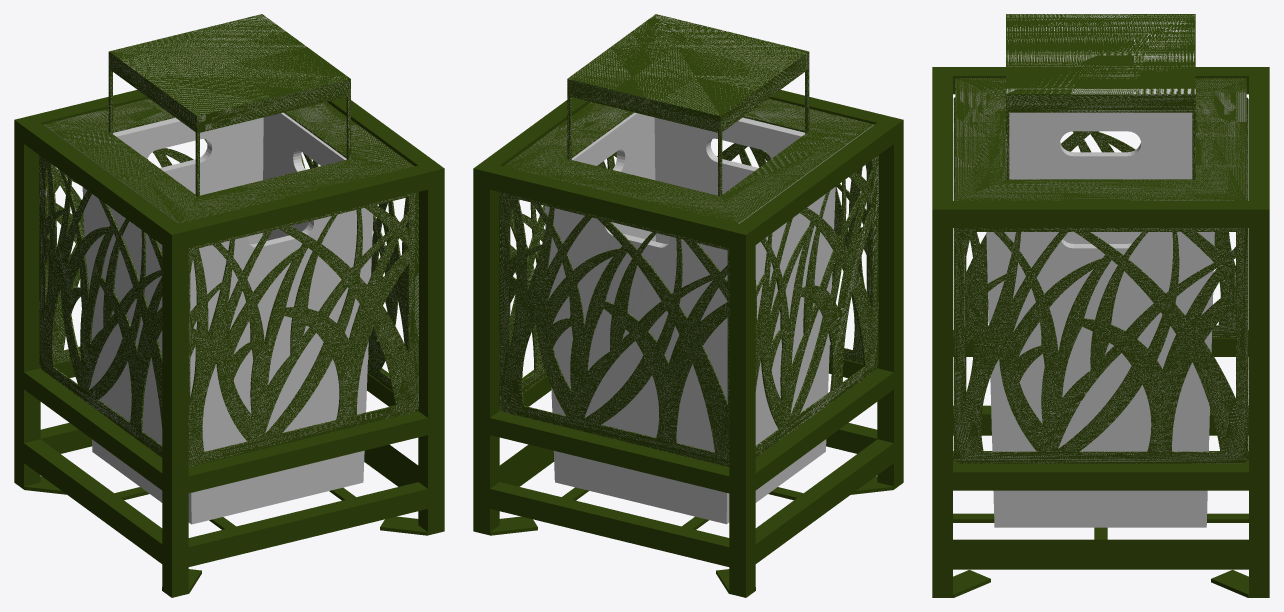
3 renders of one model, left to right at view 1: azimuth 30°, elevation 25°; view 2: azimuth 150°, elevation 25°; view 3: azimuth 270°, elevation 25°, orthographic. The views are drawn at different scales.
Visible parts, largest first — view 1: mesh54_mesh54-geometry, mesh2_mesh2-geometry, mesh6_mesh6-geometry, mesh8_mesh8-geometry, mesh1_mesh1-geometry, mesh5_mesh5-geometry, mesh28_mesh28-geometry, mesh50_mesh50-geometry, mesh21_mesh21-geometry, mesh11_mesh11-geometry, mesh3_mesh3-geometry, mesh4_mesh4-geometry (+1 smaller); view 2: mesh54_mesh54-geometry, mesh4_mesh4-geometry, mesh21_mesh21-geometry, mesh1_mesh1-geometry, mesh5_mesh5-geometry, mesh8_mesh8-geometry, mesh28_mesh28-geometry, mesh50_mesh50-geometry, mesh6_mesh6-geometry, mesh11_mesh11-geometry, mesh2_mesh2-geometry, mesh3_mesh3-geometry (+1 smaller); view 3: mesh3_mesh3-geometry, mesh54_mesh54-geometry, mesh11_mesh11-geometry, mesh1_mesh1-geometry, mesh50_mesh50-geometry, mesh21_mesh21-geometry, mesh28_mesh28-geometry, mesh6_mesh6-geometry, mesh5_mesh5-geometry, mesh8_mesh8-geometry, mesh25_mesh25-geometry, mesh14_mesh14-geometry (+1 smaller).
Part boxes in pixels (x1=…): mesh54_mesh54-geometry: x1=82, y1=112, x2=373, y2=524; mesh2_mesh2-geometry: x1=188, y1=192, x2=418, y2=466; mesh6_mesh6-geometry: x1=162, y1=165, x2=444, y2=594; mesh8_mesh8-geometry: x1=14, y1=119, x2=188, y2=594; mesh1_mesh1-geometry: x1=108, y1=14, x2=350, y2=196; mesh5_mesh5-geometry: x1=39, y1=155, x2=162, y2=457; mesh28_mesh28-geometry: x1=24, y1=422, x2=427, y2=566; mesh50_mesh50-geometry: x1=44, y1=98, x2=414, y2=223; mesh21_mesh21-geometry: x1=14, y1=89, x2=148, y2=486; mesh11_mesh11-geometry: x1=327, y1=97, x2=444, y2=531; mesh3_mesh3-geometry: x1=301, y1=153, x2=407, y2=391; mesh4_mesh4-geometry: x1=46, y1=117, x2=207, y2=363; mesh54_mesh54-geometry: x1=544, y1=112, x2=835, y2=524; mesh4_mesh4-geometry: x1=499, y1=192, x2=729, y2=466; mesh21_mesh21-geometry: x1=473, y1=161, x2=755, y2=594; mesh1_mesh1-geometry: x1=567, y1=14, x2=809, y2=196; mesh5_mesh5-geometry: x1=755, y1=155, x2=878, y2=457; mesh8_mesh8-geometry: x1=729, y1=116, x2=903, y2=594; mesh28_mesh28-geometry: x1=490, y1=422, x2=893, y2=566; mesh50_mesh50-geometry: x1=503, y1=98, x2=873, y2=223; mesh6_mesh6-geometry: x1=769, y1=90, x2=903, y2=486; mesh11_mesh11-geometry: x1=473, y1=97, x2=590, y2=531; mesh2_mesh2-geometry: x1=717, y1=117, x2=871, y2=363; mesh3_mesh3-geometry: x1=510, y1=152, x2=616, y2=392; mesh3_mesh3-geometry: x1=953, y1=228, x2=1248, y2=463; mesh54_mesh54-geometry: x1=986, y1=112, x2=1214, y2=527; mesh11_mesh11-geometry: x1=932, y1=201, x2=1269, y2=594; mesh1_mesh1-geometry: x1=1006, y1=14, x2=1195, y2=179; mesh50_mesh50-geometry: x1=955, y1=78, x2=1246, y2=200; mesh21_mesh21-geometry: x1=1249, y1=67, x2=1269, y2=594; mesh28_mesh28-geometry: x1=953, y1=405, x2=1248, y2=569; mesh6_mesh6-geometry: x1=932, y1=67, x2=952, y2=594; mesh5_mesh5-geometry: x1=953, y1=97, x2=1248, y2=337; mesh8_mesh8-geometry: x1=932, y1=67, x2=1269, y2=356; mesh25_mesh25-geometry: x1=953, y1=513, x2=1248, y2=539; mesh14_mesh14-geometry: x1=1211, y1=570, x2=1269, y2=597.
Bounding box in the file's own units: 0.4769 × 0.7383 × 0.4769.
